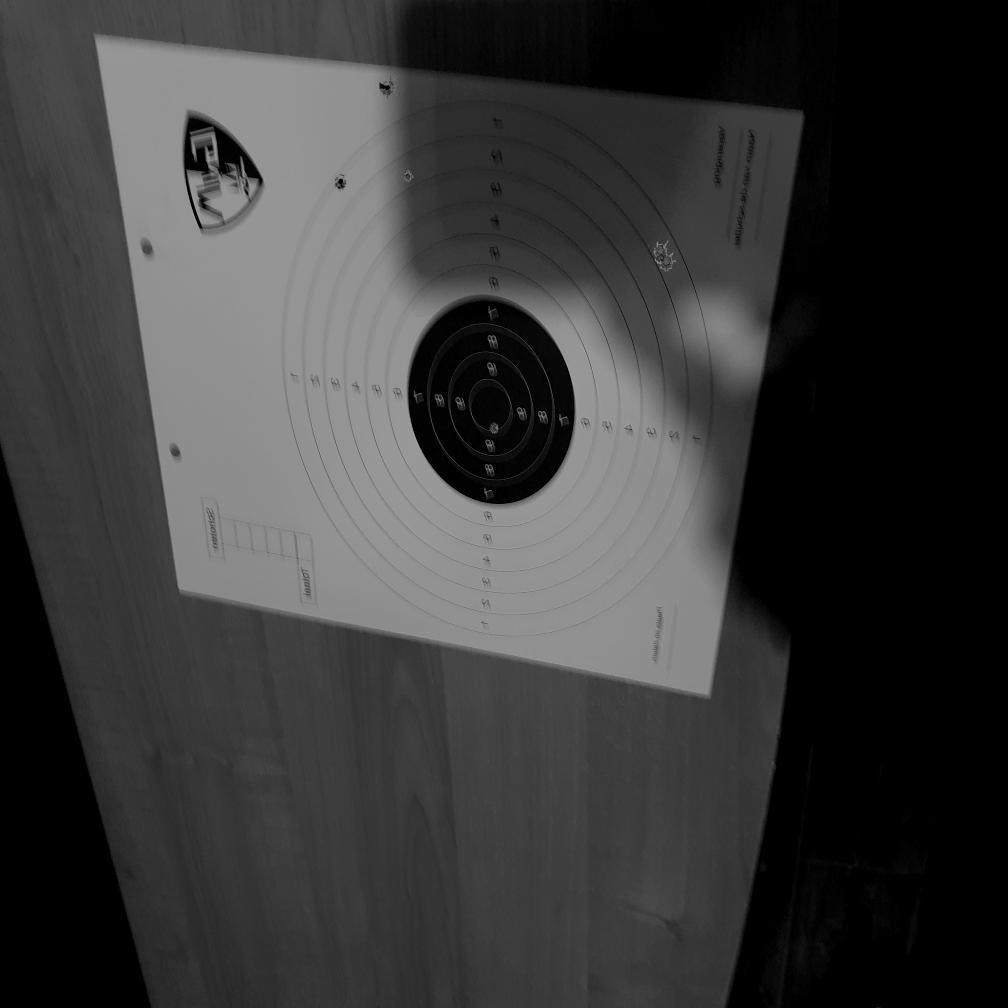0: (379, 77, 397, 98)
1: (659, 253, 675, 272), (333, 172, 347, 192), (654, 240, 668, 260)
10: (489, 422, 499, 434)
2: (401, 168, 414, 184)
Target: (280, 97, 716, 643)
black_contour: (407, 298, 575, 506)
